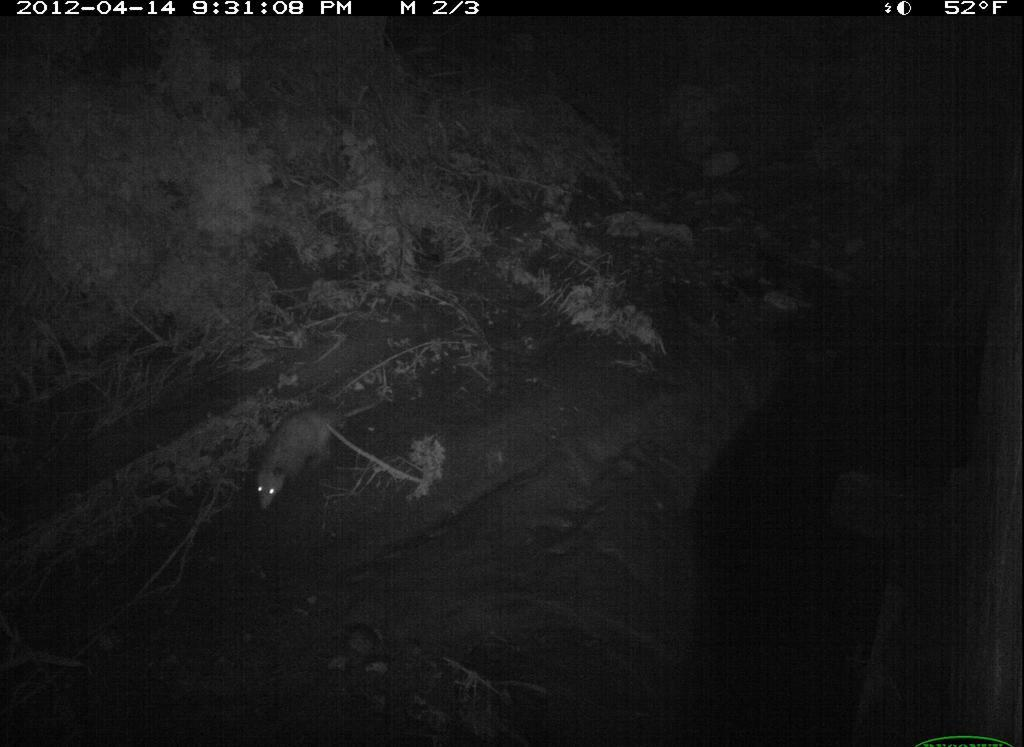opossum: (239, 377, 408, 528)
